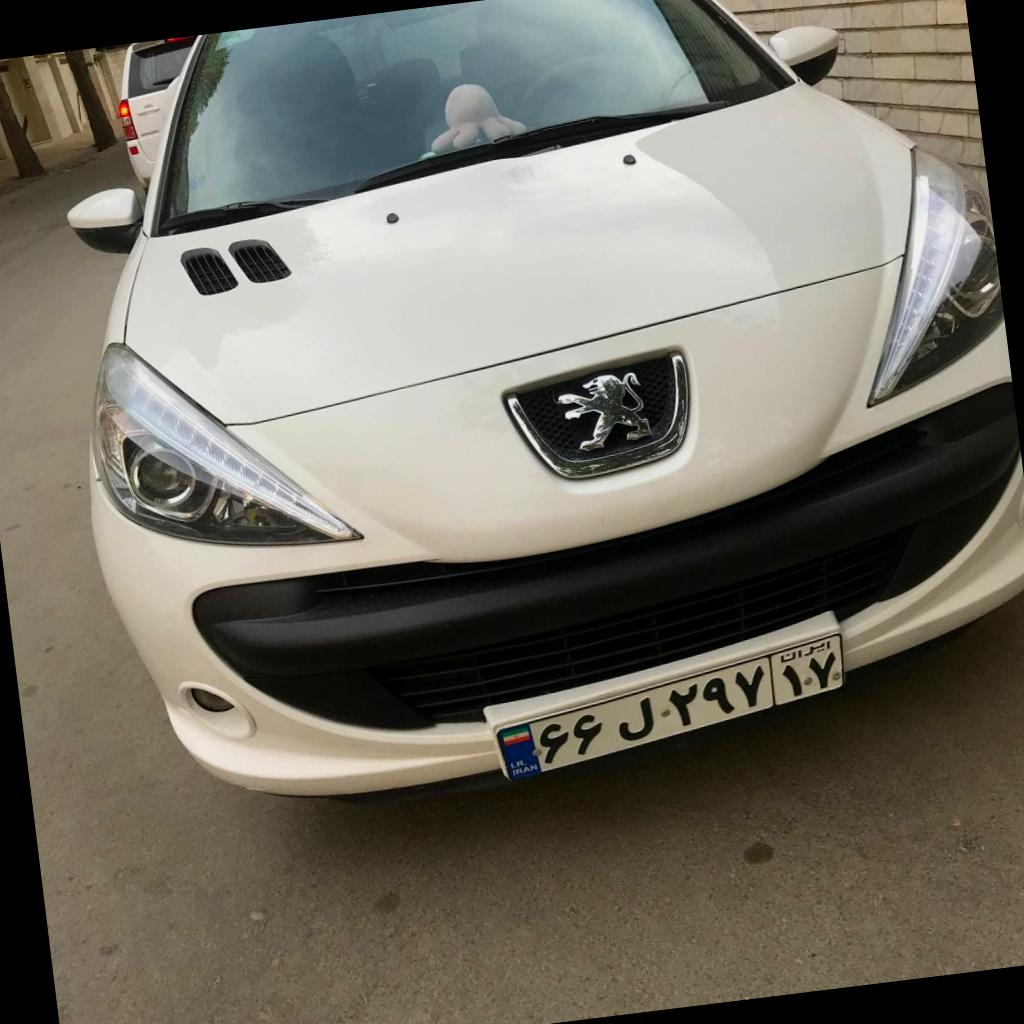Plates: (496, 633, 845, 780)
